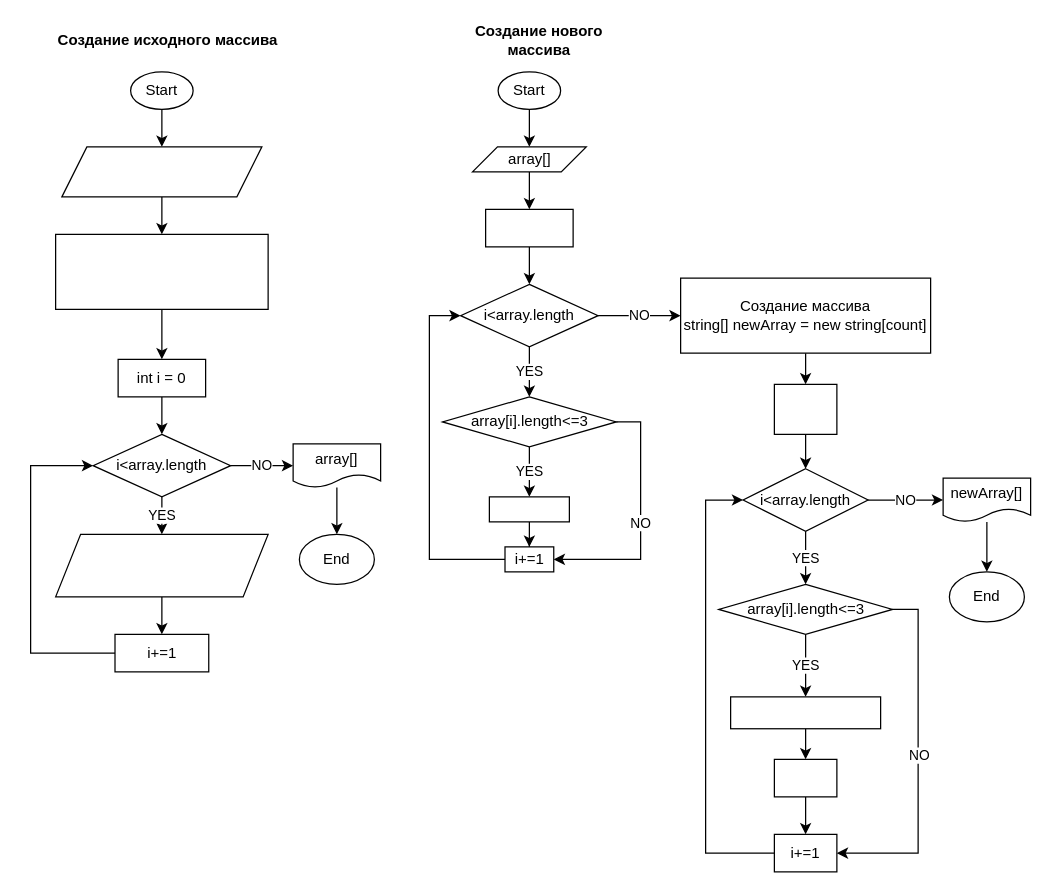
Some shapes in this 1053 by 894 pixel diagram are drawn without their labels. Here are the shapes that lost their labels. From the top down, the box of each, then its label:
(61, 146, 262, 197): Получение размера массива - n
(484, 208, 573, 247): int i = 0 count=0
(54, 233, 268, 309): Создание массива string[] array=new string[n]
(773, 383, 837, 434): i=0 int j=0
(488, 496, 569, 522): count+=1
(54, 533, 268, 597): Получение элемента массива array(i)
(729, 696, 881, 729): newArray[j] = array[i]
(773, 758, 837, 797): j+=1
